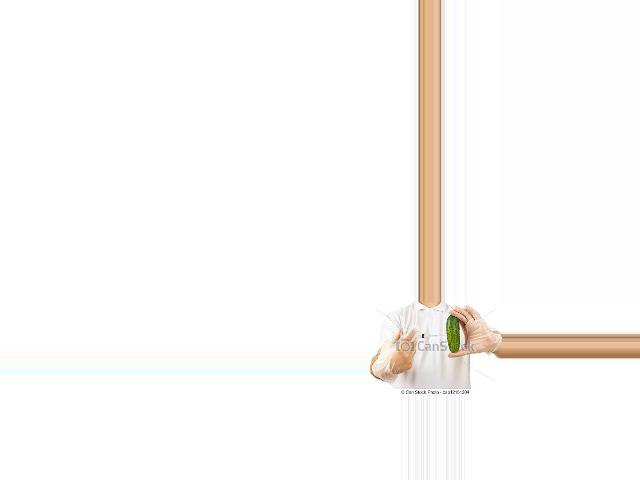cucumber: (447, 314, 460, 353)
